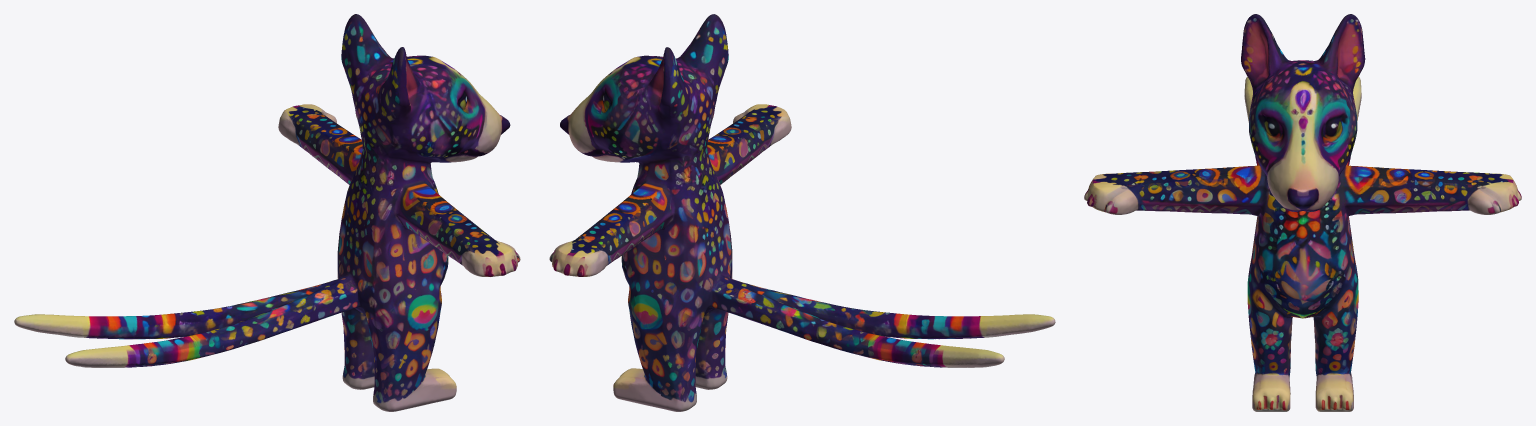
Rendered from bull.glb.
3 renders of one model, left to right at view 1: azimuth 30°, elevation 25°; view 2: azimuth 150°, elevation 25°; view 3: azimuth 270°, elevation 25°, orthographic. The views are drawn at different scales.
Parts seen in each view (by area): view 1: tripo_node_a045018c-c4ae-46ee-ade5-b956961c77d0; view 2: tripo_node_a045018c-c4ae-46ee-ade5-b956961c77d0; view 3: tripo_node_a045018c-c4ae-46ee-ade5-b956961c77d0.
Boxes of the visible parts, x1,y1,x2,y2 form: tripo_node_a045018c-c4ae-46ee-ade5-b956961c77d0: (14,14,520,411); tripo_node_a045018c-c4ae-46ee-ade5-b956961c77d0: (549,14,1055,411); tripo_node_a045018c-c4ae-46ee-ade5-b956961c77d0: (1084,14,1521,411).
Size of the model in its own units: 1 by 0.7442 by 0.7903.
Materials: 1 (1 with a texture image).
